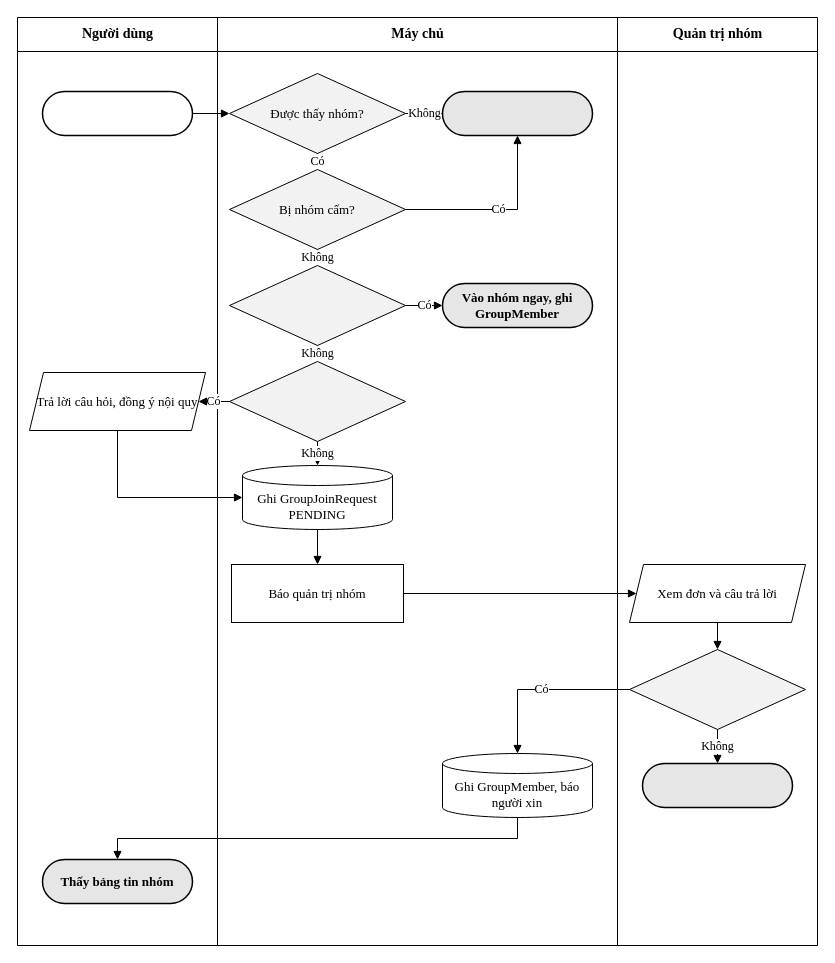
The diagram is 835 pixels wide and 963 high, and some of its shapes have lost their labels. The shapes that lost their labels are listed below. From the top down, each one's centre as x and y in pixels, then its label:
the point at 117,113: Bấm Tham gia nhóm
the point at 517,113: Từ chối (404 hoặc 403)
the point at 317,305: Nhóm công khai?
the point at 317,401: Nhóm có câu hỏi?
the point at 717,689: Duyệt đơn?
the point at 717,785: Từ chối, đơn đóng lại
